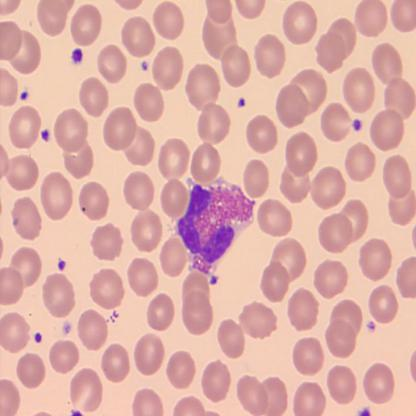Eosinophil: (176, 182, 258, 282)
